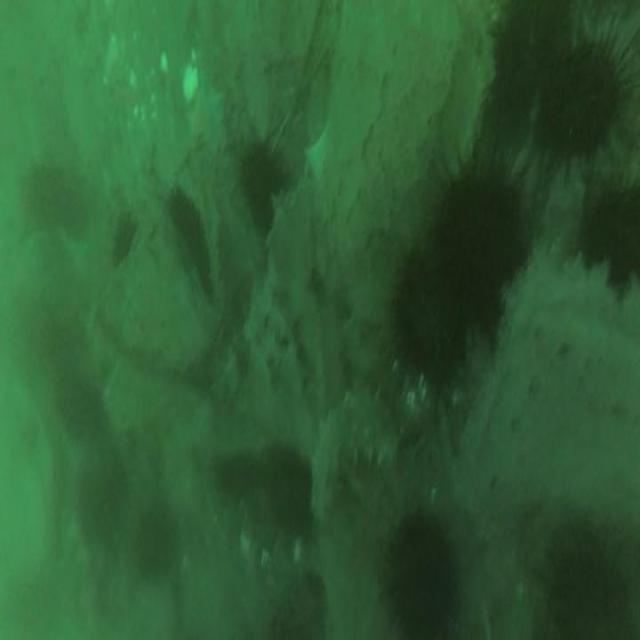echinus: (434, 171, 521, 305), (383, 510, 458, 640), (540, 46, 624, 148), (393, 259, 464, 373), (541, 551, 630, 640), (579, 182, 640, 283), (501, 1, 567, 64), (74, 459, 122, 544), (240, 145, 290, 226), (268, 452, 314, 532), (488, 62, 532, 128), (134, 509, 171, 575)
holothurian: (317, 391, 393, 522)
